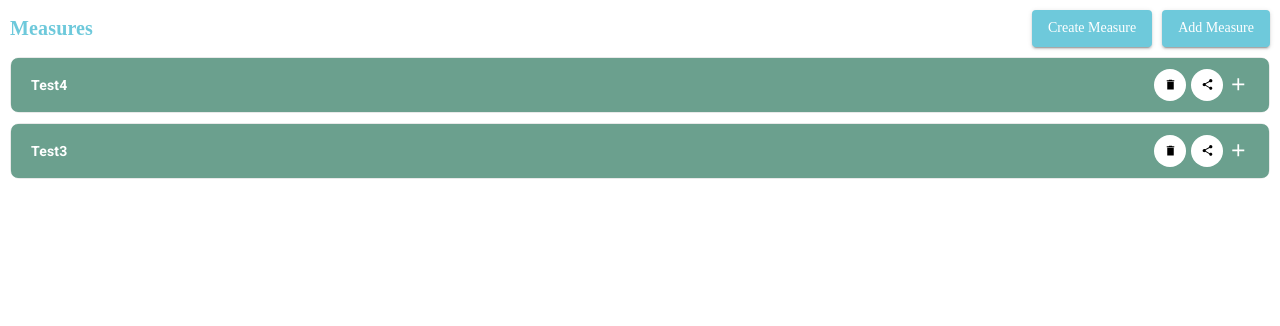
Test: Therapist patient measures › should render therapist measures list
Expected: the text "test4" is shown, [31,74,67,94]
Click the icon with test id "toggleContent0": [1239, 84] box [1228,74,1249,95]
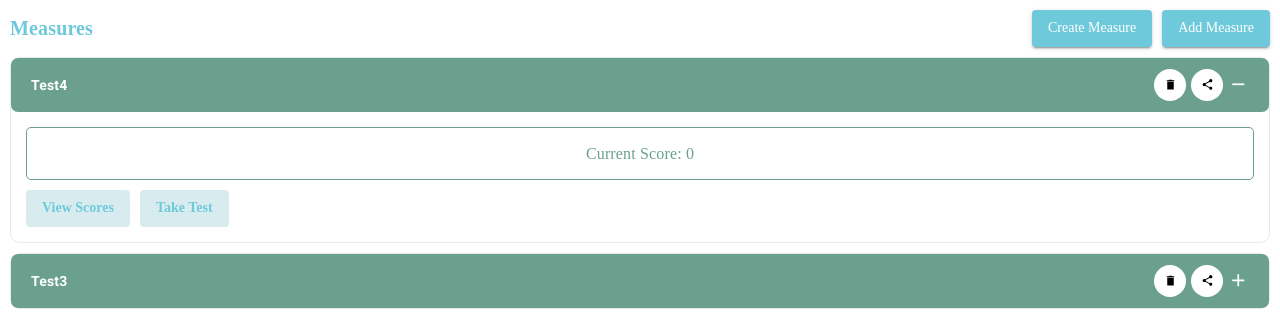
Expected: the heading "Current Score: 0" is shown, [586,144,694,162]
